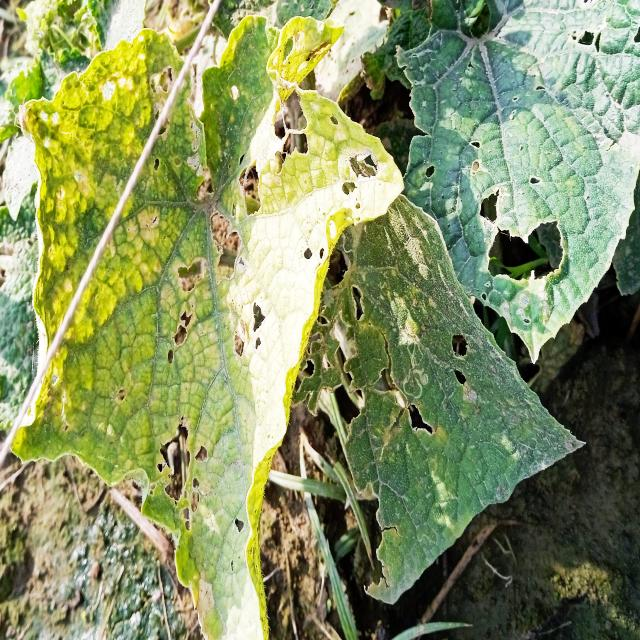Anthracnose: (472, 182, 571, 289), (154, 413, 215, 535), (165, 256, 208, 370), (268, 88, 311, 177), (205, 206, 249, 279), (225, 291, 271, 360), (340, 149, 379, 199), (567, 18, 608, 55), (447, 324, 469, 392)
